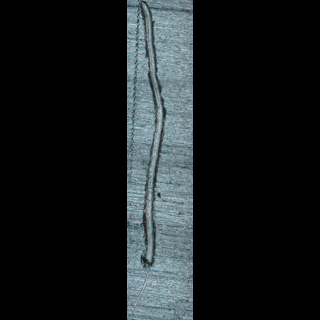d: (134, 0, 167, 272)
